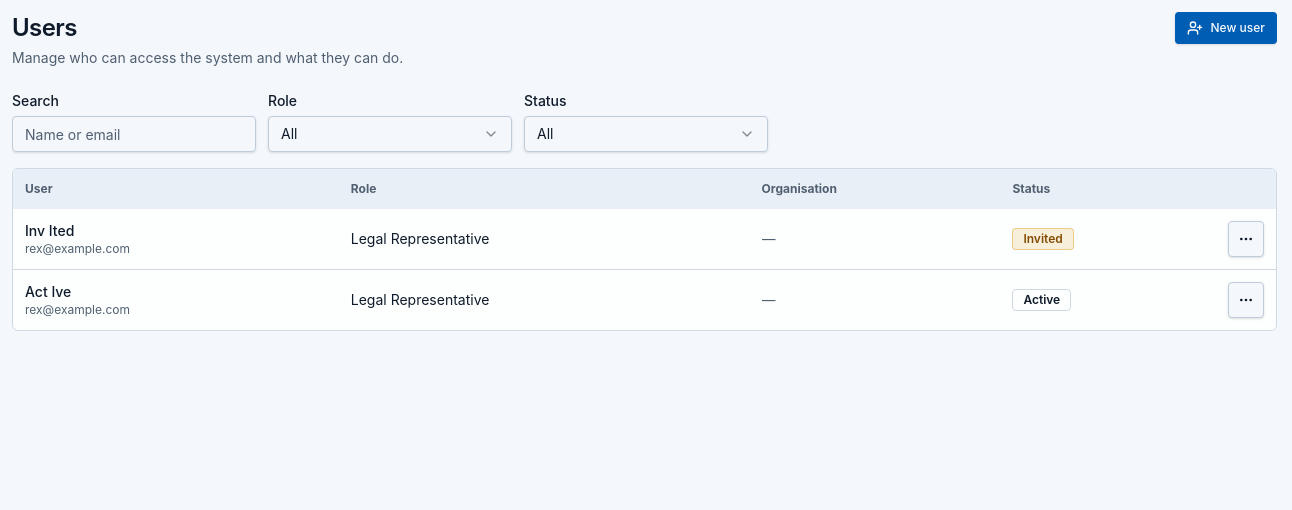
Test: UsersPage password ownership › offers Resend invite to an invited user and Send password reset link to an active one
The image size is (1292, 510).
Expected: the text "Inv Ited" is shown, [25, 222, 74, 239]
Click the button named "actions for inv ited" at (1246, 239), box [1228, 221, 1264, 257]
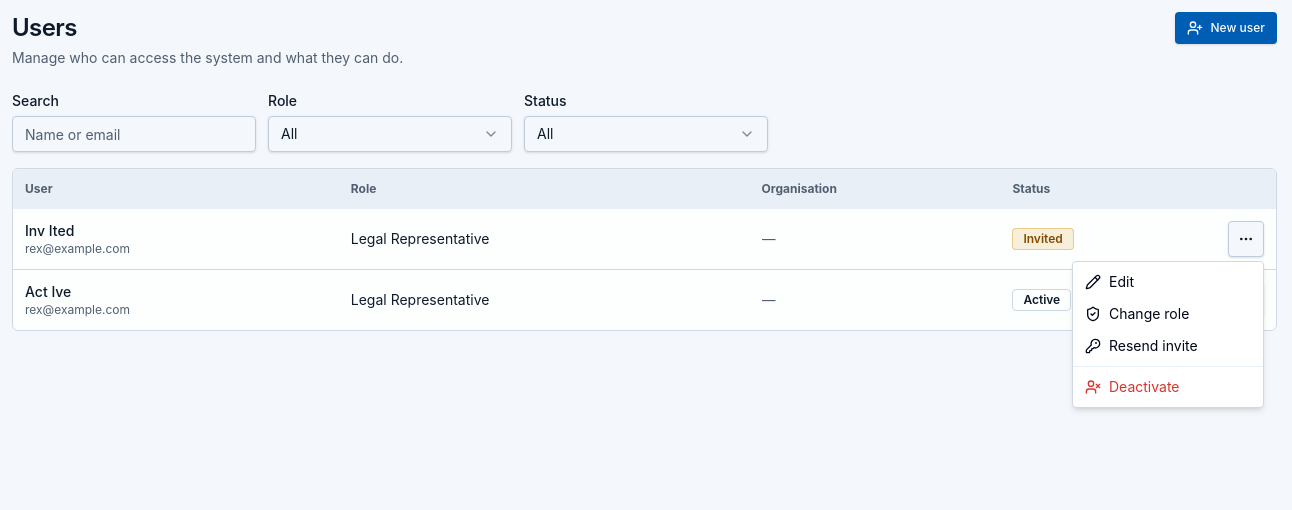
Now the menu item "Resend invite" is shown, box [1085, 337, 1198, 354]
Press Escape
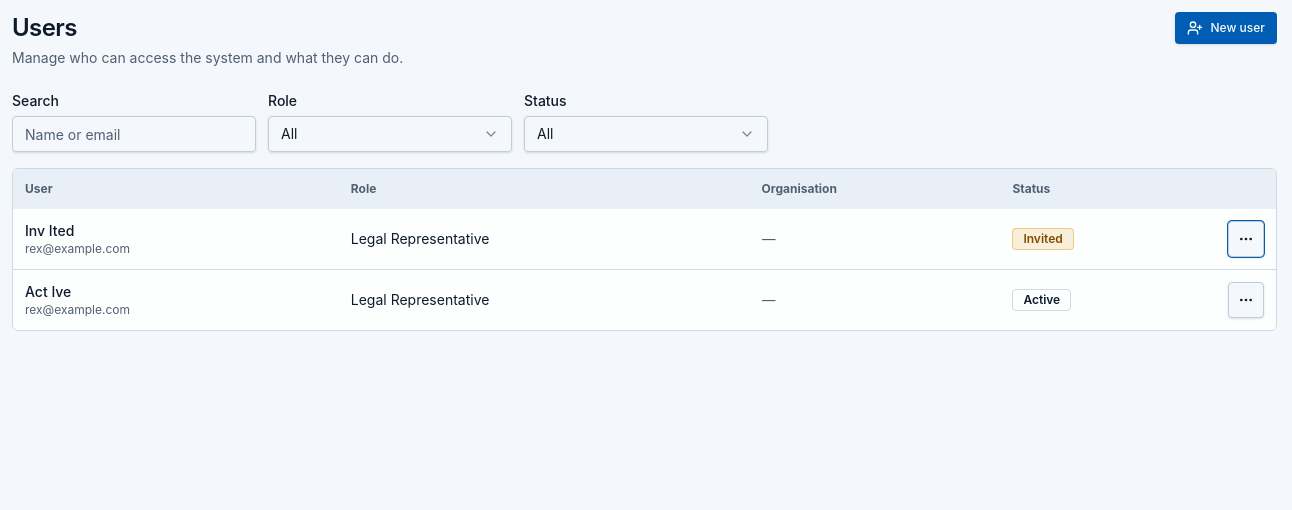
Click the button named "actions for act ive" at (1246, 300), box [1228, 282, 1264, 318]
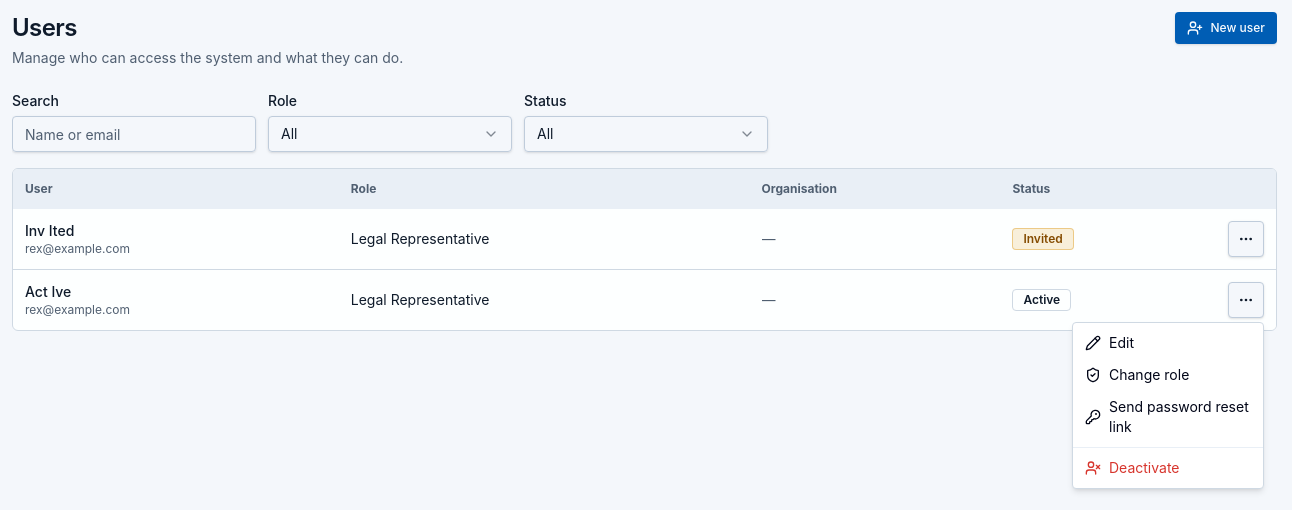
Now the menu item "Send password reset link" is shown, box [1077, 391, 1259, 443]
